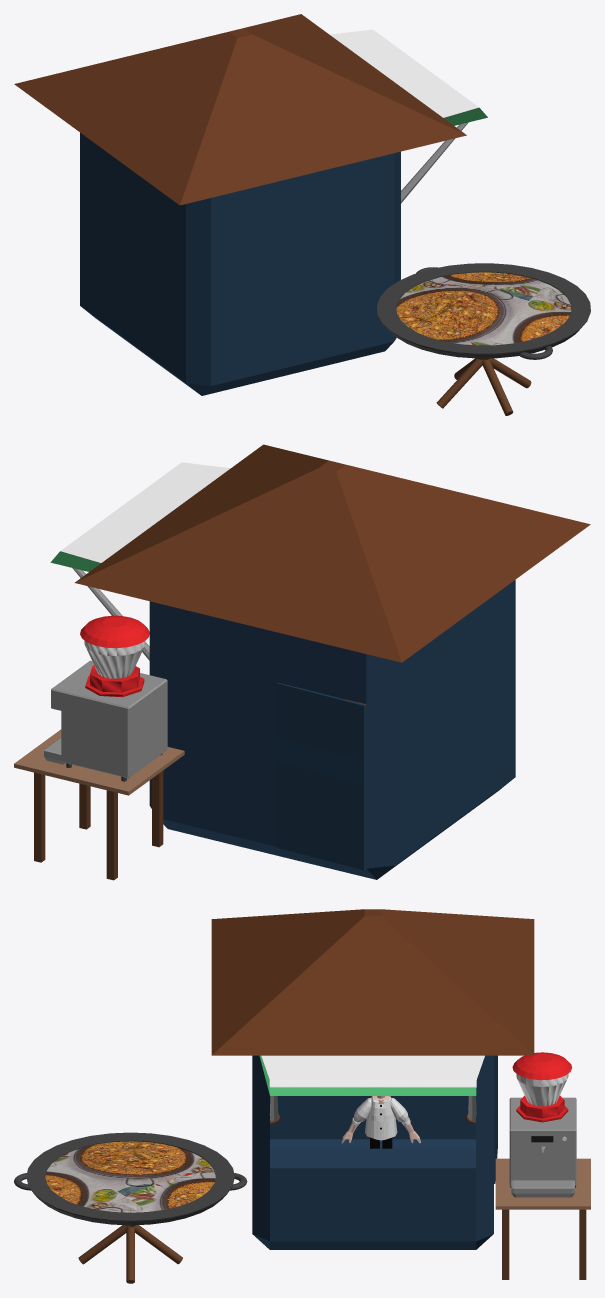
The model's file is kiosco.fbx.
The picture shows the model from 3 angles, top to bottom: view 1: azimuth 30°, elevation 25°; view 2: azimuth 150°, elevation 25°; view 3: azimuth 270°, elevation 25°; orthographic projection. The views are drawn at different scales.
Parts seen in each view (by area): view 1: Quiosco, Paella, Paelleera, SOPORTE, S.TOLDO; view 2: Quiosco, Reposo horchatera, Patas Mesa, Mesa, Tapa horchata; view 3: Quiosco, Paella, Reposo horchatera, Paelleera, Mesa, Pierna.R.002, SOPORTE, Tapa horchata, Patas Mesa.
Part boxes in pixels (left/top/right/bottom): Quiosco: left=14, top=14, right=487, bottom=395; Paella: left=396, top=272, right=571, bottom=345; Paelleera: left=377, top=263, right=590, bottom=358; SOPORTE: left=436, top=358, right=531, bottom=415; S.TOLDO: left=401, top=122, right=468, bottom=203; Quiosco: left=50, top=444, right=590, bottom=879; Reposo horchatera: left=44, top=640, right=167, bottom=781; Patas Mesa: left=34, top=771, right=163, bottom=880; Mesa: left=14, top=729, right=184, bottom=795; Tapa horchata: left=80, top=615, right=149, bottom=648; Quiosco: left=211, top=909, right=534, bottom=1249; Paella: left=45, top=1141, right=215, bottom=1212; Reposo horchatera: left=509, top=1073, right=576, bottom=1197; Paelleera: left=26, top=1132, right=234, bottom=1225; Mesa: left=495, top=1158, right=590, bottom=1209; Pierna.R.002: left=341, top=1096, right=420, bottom=1148; SOPORTE: left=78, top=1225, right=182, bottom=1283; Tapa horchata: left=512, top=1052, right=571, bottom=1080; Patas Mesa: left=502, top=1209, right=586, bottom=1279.
Size of the model in its own units: 1188 by 969 by 1717.
